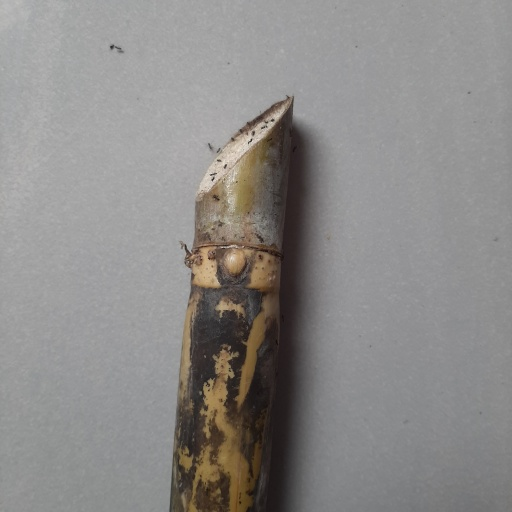Bud: (219, 247, 249, 279)
